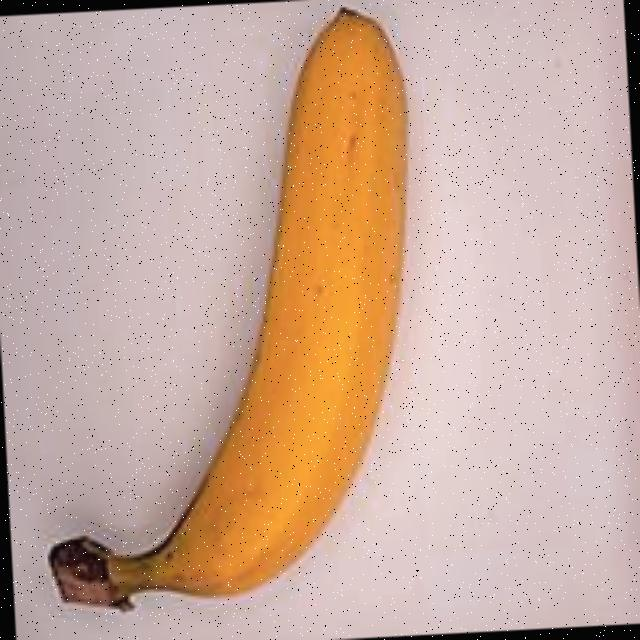Ripe: (0, 0, 479, 638)
